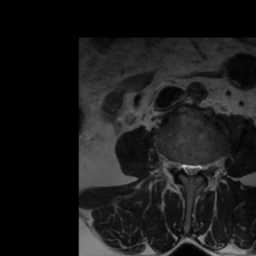CCS_severe_stenosis: (188, 158, 194, 185)
LFS_normal: (201, 158, 209, 177)
LLS_stenosis: (195, 158, 202, 178)
RFS_normal: (173, 157, 181, 177)
RLS_stenosis: (181, 158, 189, 178)
